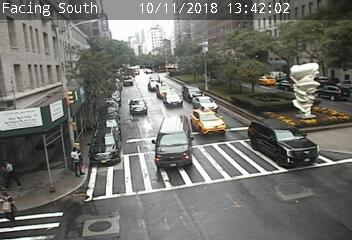car: (249, 119, 319, 168), (154, 115, 192, 169), (90, 127, 119, 165), (191, 109, 226, 135), (313, 84, 352, 101), (192, 96, 219, 112), (181, 85, 205, 103), (128, 98, 148, 114), (164, 92, 182, 107), (275, 79, 296, 91), (156, 83, 172, 98), (257, 75, 276, 85), (148, 81, 162, 91)
